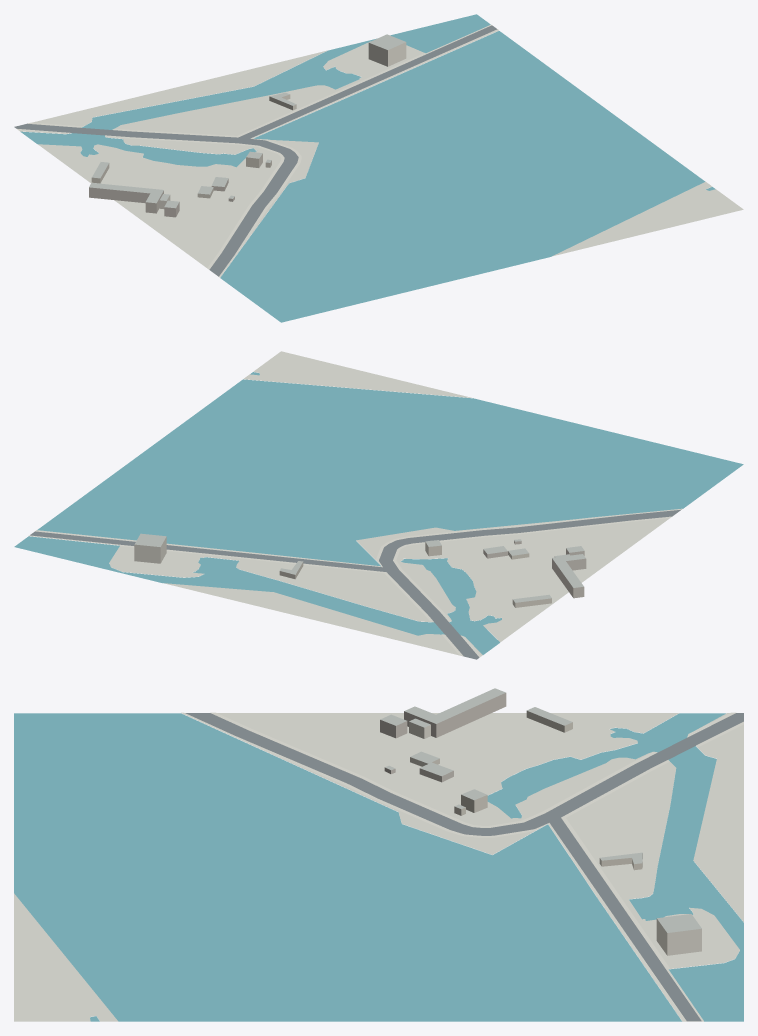
The picture shows the model from 3 angles, top to bottom: view 1: azimuth 30°, elevation 25°; view 2: azimuth 150°, elevation 25°; view 3: azimuth 270°, elevation 25°; orthographic projection. The views are drawn at different scales.
Parts seen in each view (by area): view 1: city; view 2: city; view 3: city.
Boxes of the visible parts, x1,y1,x2,y2 form: city: [14, 14, 743, 322]; city: [14, 351, 743, 659]; city: [14, 688, 743, 1021].
Bounding box in the file's own units: 518 × 17.38 × 500.
